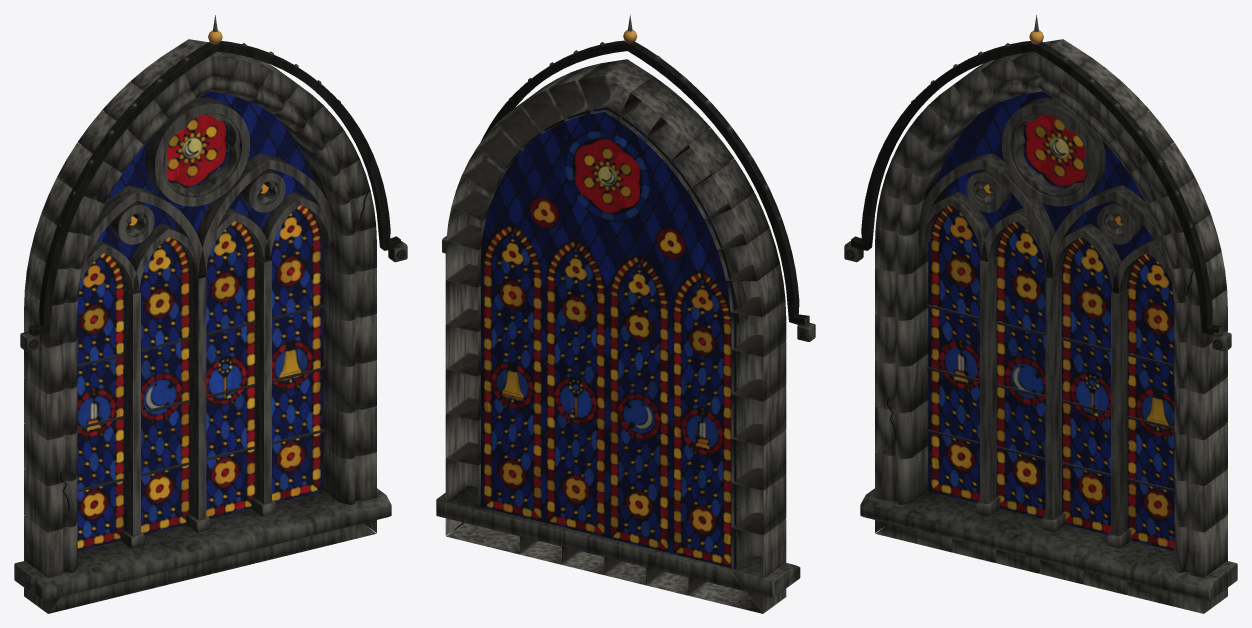
Rendered from TraceryWindow.fbx.
The picture shows the model from 3 angles, left to right: view 1: azimuth 30°, elevation 25°; view 2: azimuth 150°, elevation 25°; view 3: azimuth 330°, elevation 25°; orthographic projection. The views are drawn at different scales.
Parts seen in each view (by area): view 1: TraceryWindow_Main, TraceryWindow_Stained; view 2: TraceryWindow_Stained, TraceryWindow_Main; view 3: TraceryWindow_Main, TraceryWindow_Stained.
Boxes of the visible parts, x1=… form: TraceryWindow_Main: x1=14, y1=15, x2=407, y2=613; TraceryWindow_Stained: x1=77, y1=91, x2=323, y2=550; TraceryWindow_Stained: x1=480, y1=107, x2=736, y2=569; TraceryWindow_Main: x1=436, y1=14, x2=815, y2=613; TraceryWindow_Main: x1=844, y1=15, x2=1237, y2=613; TraceryWindow_Stained: x1=928, y1=91, x2=1174, y2=550.
Size of the model in its own units: 960 by 1352 by 132.
